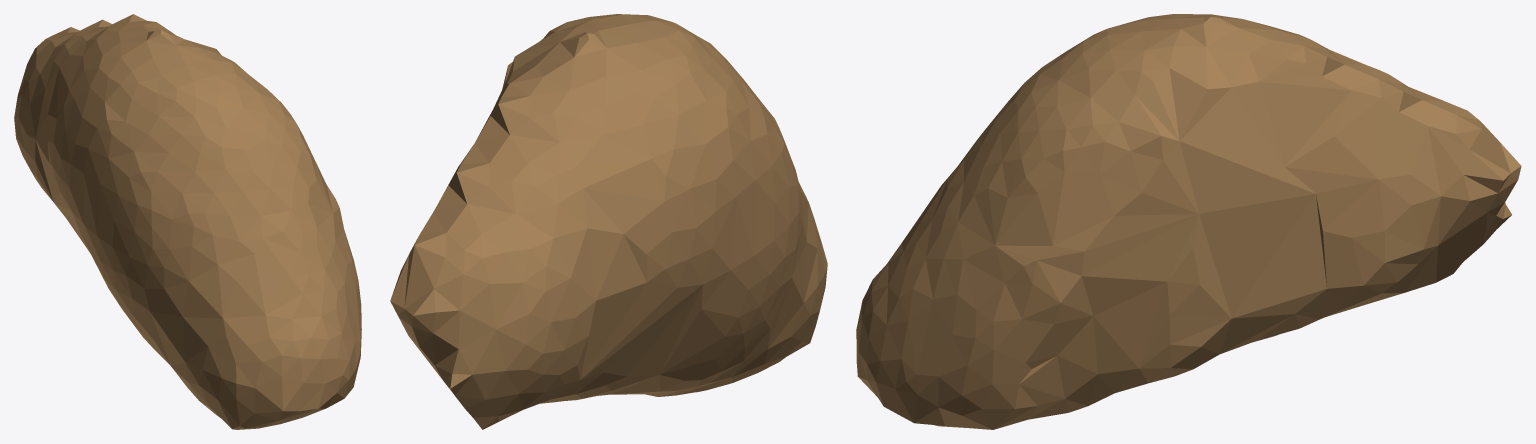
The model's file is Model_481_RH__Intermediate_nucleus_of_the_lateral_lemniscus_(ILL).obj.
3 views of the same model, side by side, from view 1: azimuth 30°, elevation 25°; view 2: azimuth 150°, elevation 25°; view 3: azimuth 270°, elevation 25° (orthographic). The views are drawn at different scales.
Bounding box in the file's own units: 0.7814 × 1.14 × 1.75.
